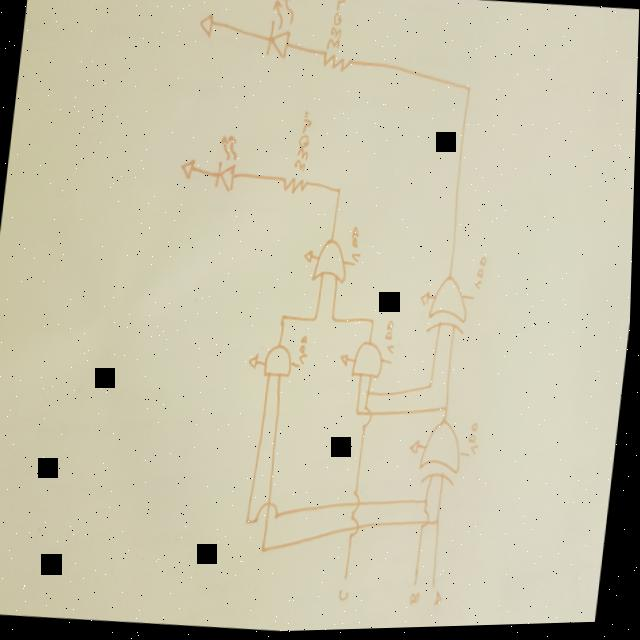crossover: (258, 501, 285, 528), (364, 404, 376, 431), (352, 492, 364, 517), (351, 518, 364, 539), (422, 511, 434, 532)
diode: (264, 0, 297, 62), (214, 131, 242, 195)
ground: (197, 12, 216, 40), (180, 156, 197, 181), (249, 352, 262, 372), (340, 351, 353, 370), (412, 440, 423, 458), (422, 291, 433, 309), (305, 249, 316, 265)
junction: (335, 187, 344, 196), (262, 546, 270, 554), (436, 520, 444, 528), (332, 316, 339, 324), (356, 410, 363, 418), (425, 498, 432, 506), (282, 315, 289, 322), (429, 384, 435, 392), (368, 390, 374, 398), (466, 87, 472, 94), (313, 316, 319, 323), (371, 320, 377, 327), (445, 406, 450, 414), (248, 518, 253, 525)
resistor: (320, 48, 355, 76), (279, 175, 313, 198)
source: (299, 365, 303, 370), (353, 264, 357, 268), (470, 455, 473, 459), (474, 298, 477, 302), (391, 362, 394, 366)
terminal: (415, 582, 422, 590), (434, 583, 440, 591), (346, 575, 351, 581)
text: (293, 108, 315, 175), (326, 0, 348, 53), (350, 227, 366, 264), (384, 320, 400, 356), (469, 423, 485, 457), (475, 256, 489, 292), (300, 336, 311, 366), (341, 588, 353, 604), (413, 593, 423, 607), (437, 592, 446, 607)
